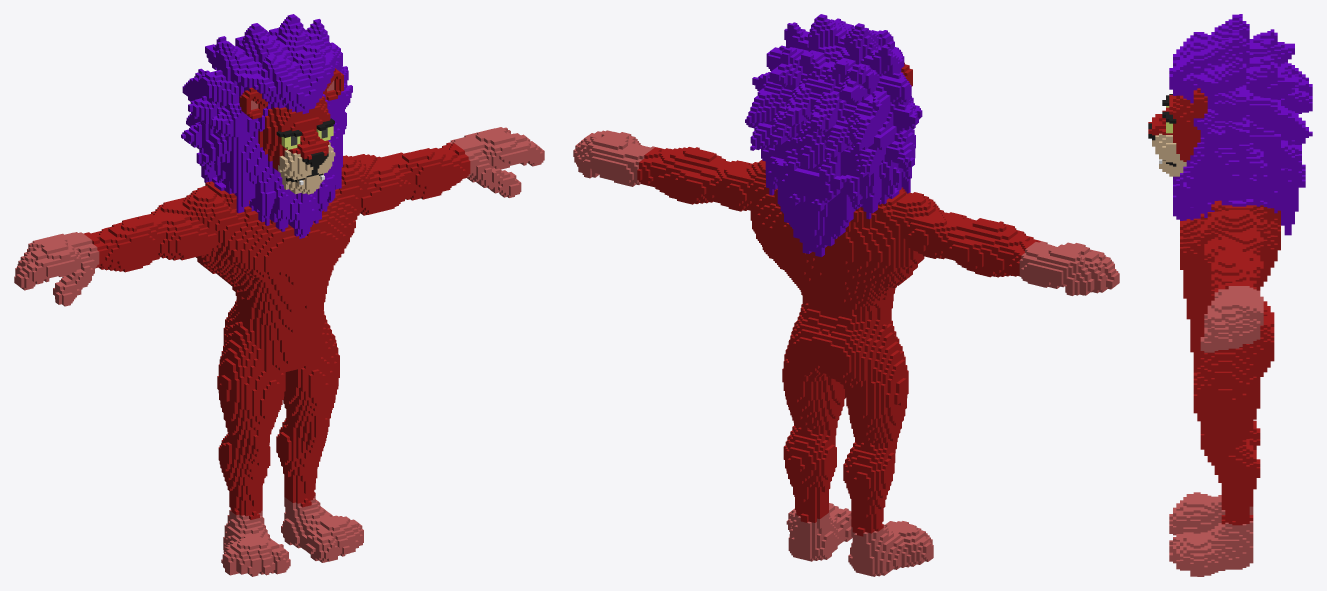
Rendered from 319-CDeU6Fe3.glb.
3 renders of one model, left to right at view 1: azimuth 30°, elevation 25°; view 2: azimuth 150°, elevation 25°; view 3: azimuth 270°, elevation 25°, orthographic. The views are drawn at different scales.
Visible parts, largest first — view 1: standard; view 2: standard; view 3: standard.
Part boxes in pixels (<box>): standard: <box>14,14,544,576</box>; standard: <box>573,14,1119,576</box>; standard: <box>1148,14,1312,576</box>.
Size of the model in its own units: 17.2 by 16.5 by 4.7.
4 materials, 4 textured.
